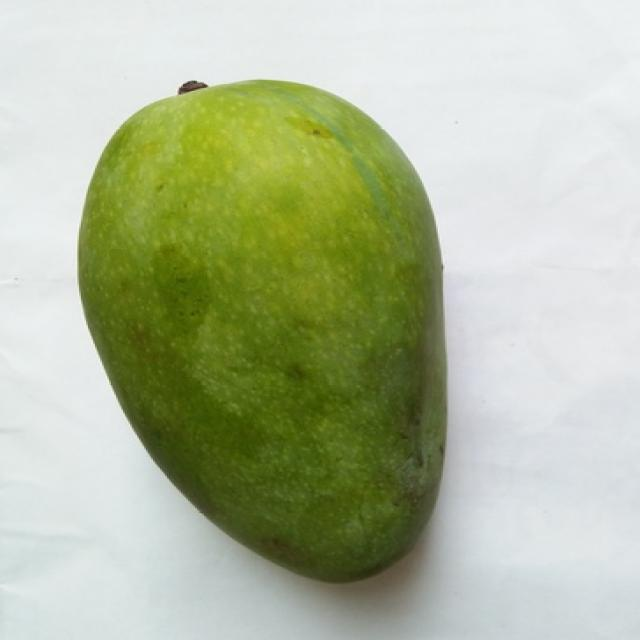Mango: (79, 83, 445, 581)
